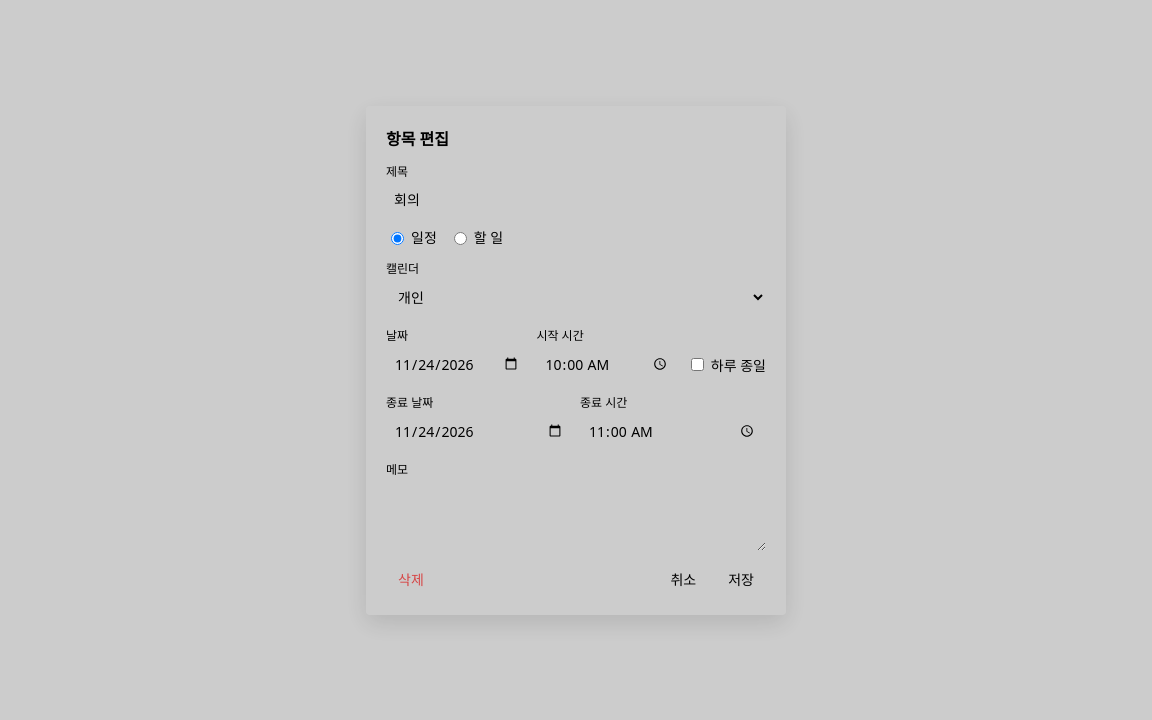
Test case: ItemEditDialog › 종료가 시작보다 빠르면 저장하지 않는다
Replace the text in the time field labelled "종료 시간" with "09:00": (673, 431) [580,414,766,448]
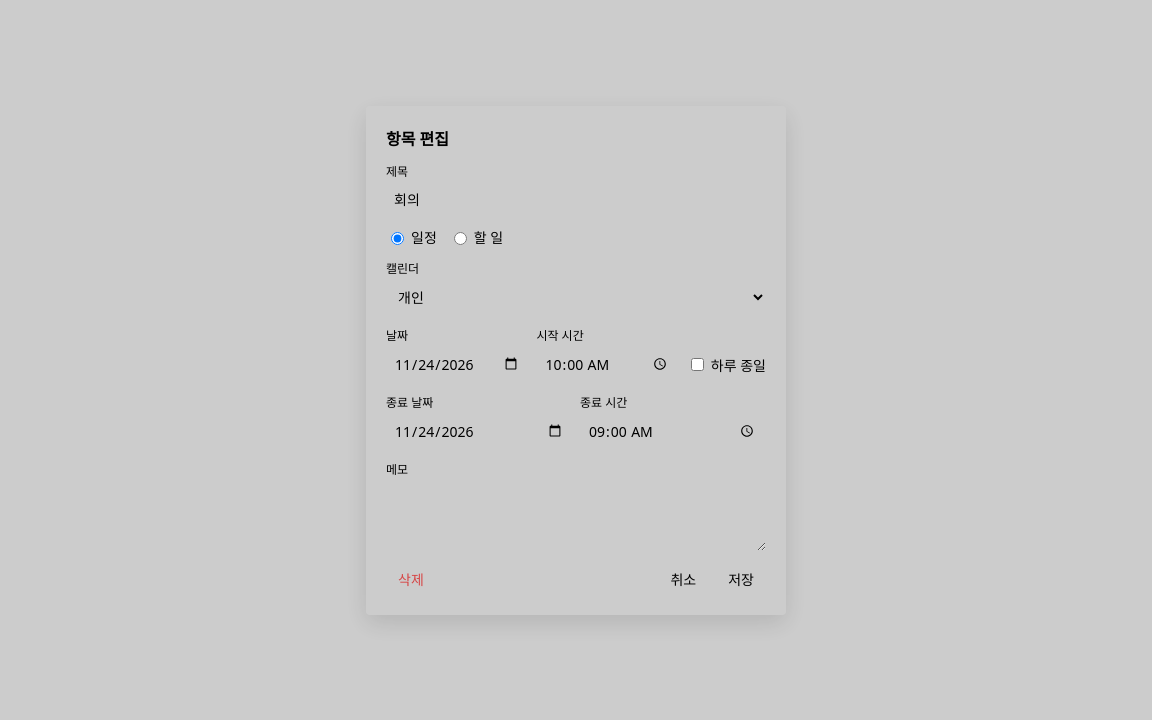
Click the button "저장": (741, 578) [716,562,766,594]
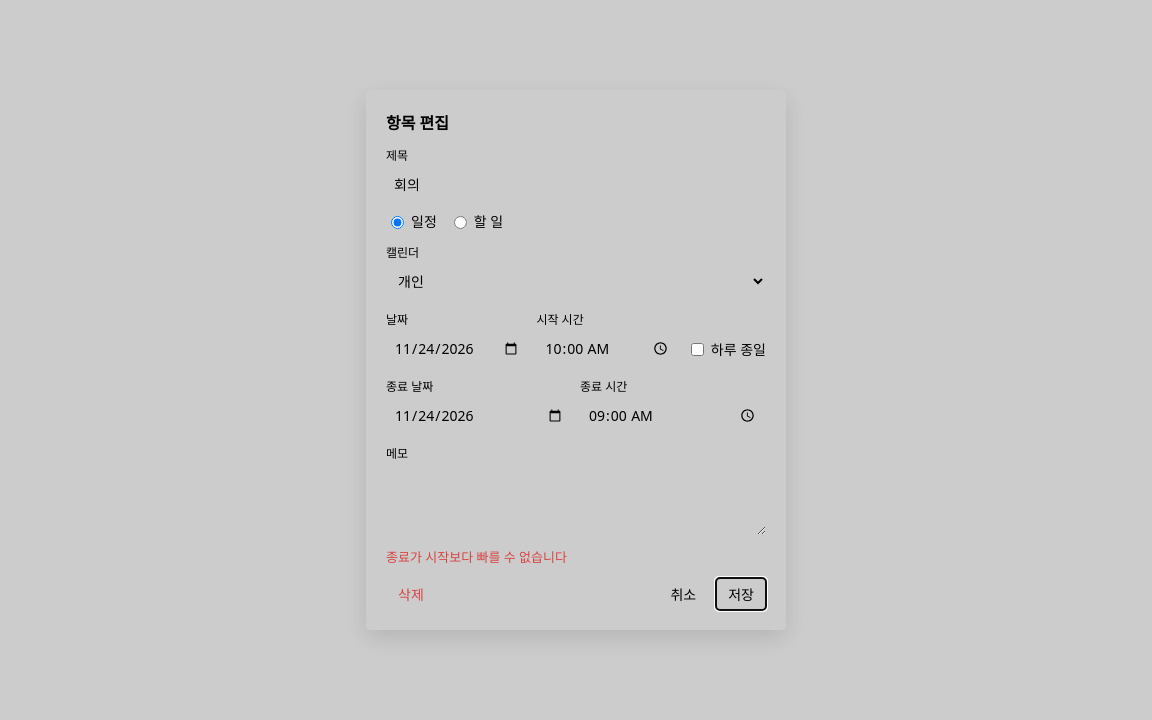
Expected: the text "종료가 시작보다 빠를 수 없습니다" is shown, [386,548,567,566]
